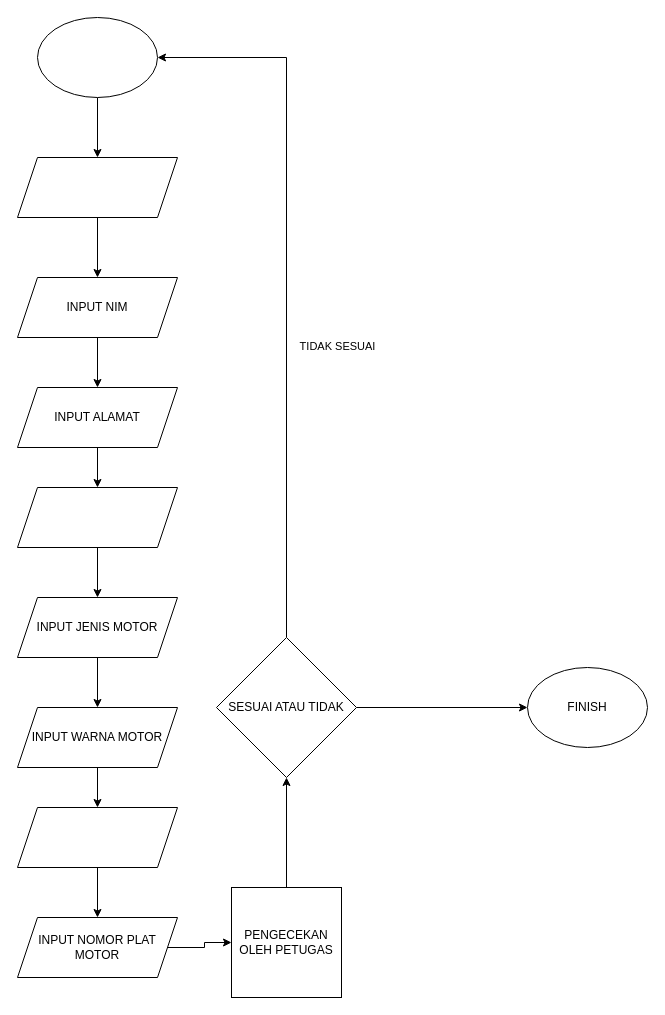
The diagram is 665 pixels wide and 1015 high, and some of its shapes have lost their labels. Here are the shapes that lost their labels. From the top down, the centre of each, then its label:
point (97, 57): START
point (97, 187): INPUT NAMA MAHASISWA
point (97, 517): INPUT PRODI
point (97, 837): INPUT NOMOR HP
